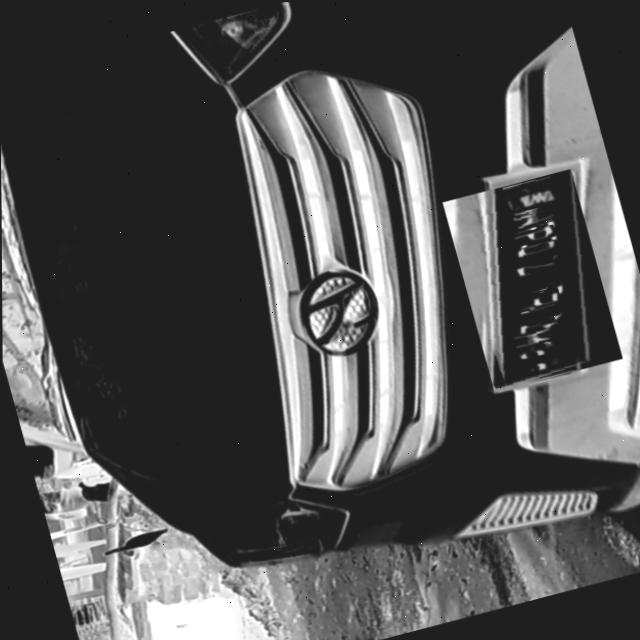0: (511, 236, 557, 258)
1: (515, 311, 556, 335)
4: (510, 348, 563, 379), (512, 322, 564, 348)
6: (510, 335, 561, 362)
7: (511, 250, 555, 276)
C: (510, 272, 560, 298)
F: (512, 285, 561, 312)
IND: (502, 172, 558, 213)
Indian_registered: (494, 167, 586, 384)
M: (512, 205, 556, 231)
P: (512, 222, 556, 245)
